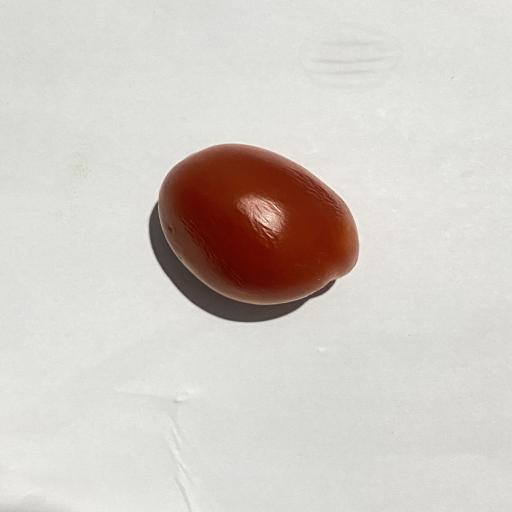spoiled: (158, 144, 359, 305)
